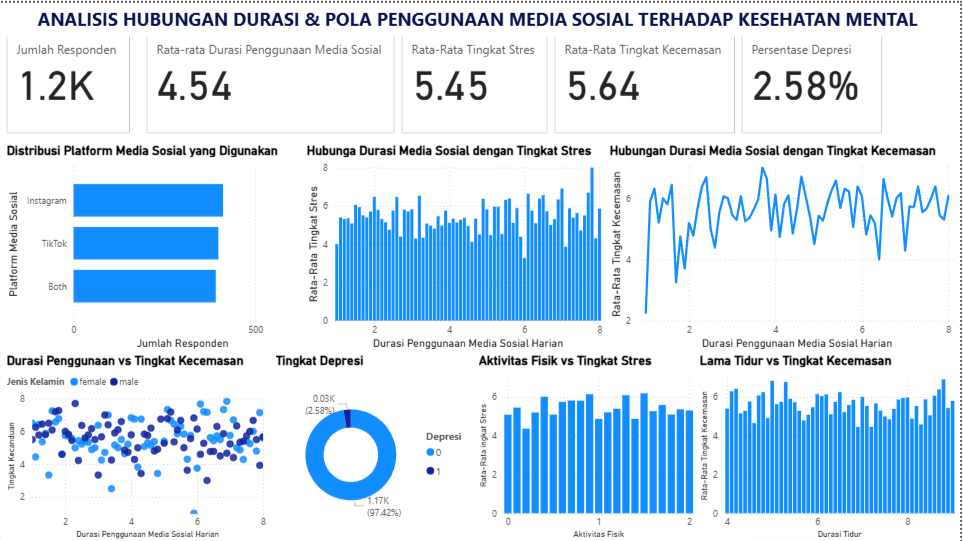

Layout of this report page (visuals, bound fields, positions):
{"tool":"powerbi","page":{"name":"Page 1","canvas":[1280,720],"ordinal":0},"visuals":[{"type":"cardVisual","fields":{"Data":["DATASET.Jumlah Responden"]},"box":[4.3,10,174.3,168.6],"z":0},{"type":"cardVisual","fields":{"Data":["DATASET.Persentase Depresi"]},"box":[984.3,10,197.1,168.6],"z":1000},{"type":"cardVisual","fields":{"Data":["DATASET.Rata-rata Durasi Media Sosial"]},"box":[190,10,340,168.6],"z":2000},{"type":"cardVisual","fields":{"Data":["Avg(DATASET.Tingkat Stres)"]},"box":[530,10,204.3,168.6],"z":3000},{"type":"cardVisual","fields":{"Data":["Avg(DATASET.Tingkat Kecemasan)"]},"box":[734.3,10,250,168.6],"z":4000},{"type":"clusteredBarChart","title":"Distribusi Platform Media Sosial yang Digunakan","fields":{"Category":["DATASET.Platform Media Sosial"],"Y":["DATASET.Jumlah Responden"]},"box":[4.3,187.1,400,280],"z":5000},{"type":"columnChart","title":"Hubunga Durasi Media Sosial dengan Tingkat Stres","fields":{"Category":["DATASET.Durasi Penggunaan Media Sosial Harian"],"Y":["Avg(DATASET.Tingkat Stres)"]},"box":[404.3,187.1,404.3,280],"z":6000},{"type":"lineChart","title":"Hubungan Durasi Media Sosial dengan Tingkat Kecemasan","fields":{"Category":["DATASET.Durasi Penggunaan Media Sosial Harian"],"Y":["Avg(DATASET.Tingkat Kecemasan)"]},"box":[808.6,187.1,471.4,280],"z":7000},{"type":"scatterChart","title":"Durasi Penggunaan vs Tingkat Kecemasan","fields":{"X":["DATASET.Durasi Penggunaan Media Sosial Harian"],"Y":["Avg(DATASET.Tingkat Kecanduan)"],"Series":["DATASET.Jenis Kelamin"]},"box":[4.3,467.1,355.7,252.9],"z":8000},{"type":"donutChart","title":"Tingkat Depresi","fields":{"Category":["DATASET.Status Depresi"],"Y":["CountNonNull(DATASET.Status Depresi)"]},"box":[362.9,467.1,277.1,252.9],"z":9000},{"type":"columnChart","title":"Aktivitas Fisik vs Tingkat Stres","fields":{"Category":["DATASET.Aktivitas Fisik"],"Y":["Avg(DATASET.Tingkat Stres)"]},"box":[632.9,467.1,295.7,252.9],"z":10000},{"type":"columnChart","title":"Lama Tidur vs Tingkat Kecemasan","fields":{"Category":["DATASET.Durasi Tidur"],"Y":["Avg(DATASET.Tingkat Kecemasan)"]},"box":[928.6,467.1,351.4,252.9],"z":11000},{"type":"textbox","box":[0,0,1280,45],"z":12000}]}

Visuals, with their boxes in screenshot pixels (x1, y1, x2, y2), scaled from the page's 1280x720 canvas onto the 963x541 screenshot:
cardVisual - DATASET.Jumlah Responden: 3:8:134:134
cardVisual - DATASET.Persentase Depresi: 741:8:889:134
cardVisual - DATASET.Rata-rata Durasi Media Sosial: 143:8:399:134
cardVisual - Avg(DATASET.Tingkat Stres): 399:8:552:134
cardVisual - Avg(DATASET.Tingkat Kecemasan): 552:8:741:134
"Distribusi Platform Media Sosial yang Digunakan" clusteredBarChart: 3:141:304:351
"Hubunga Durasi Media Sosial dengan Tingkat Stres" columnChart: 304:141:608:351
"Hubungan Durasi Media Sosial dengan Tingkat Kecemasan" lineChart: 608:141:962:351
"Durasi Penggunaan vs Tingkat Kecemasan" scatterChart: 3:351:271:540
"Tingkat Depresi" donutChart: 273:351:482:540
"Aktivitas Fisik vs Tingkat Stres" columnChart: 476:351:699:540
"Lama Tidur vs Tingkat Kecemasan" columnChart: 699:351:962:540
textbox: 0:0:962:34
